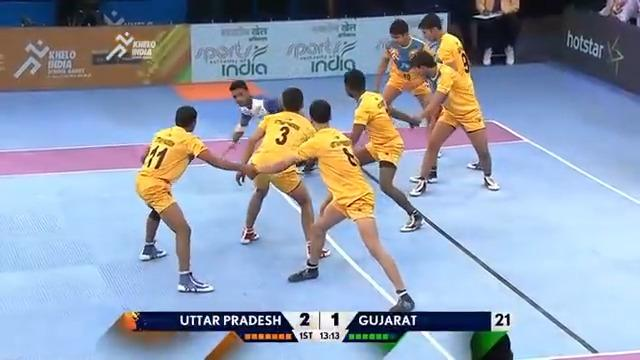Player: (240, 96, 395, 313), (132, 102, 248, 295), (408, 12, 500, 194), (375, 21, 434, 116)
Raider: (227, 79, 282, 147)
referee: (471, 0, 520, 66)
